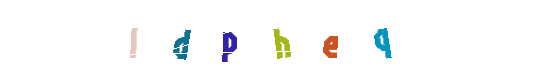9: (290, 0, 370, 80)
D: (188, 0, 268, 80)
E: (246, 0, 326, 80)
H: (241, 0, 321, 80)
L: (110, 0, 190, 80)
P: (235, 0, 315, 80)
